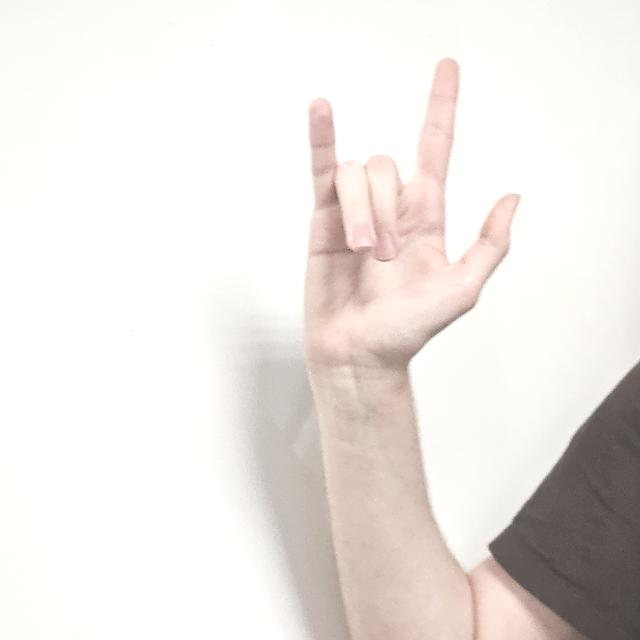Cima: (299, 59, 521, 387)
